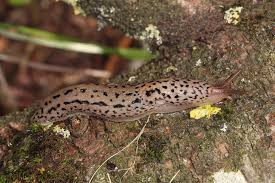slug: (39, 83, 233, 117)
